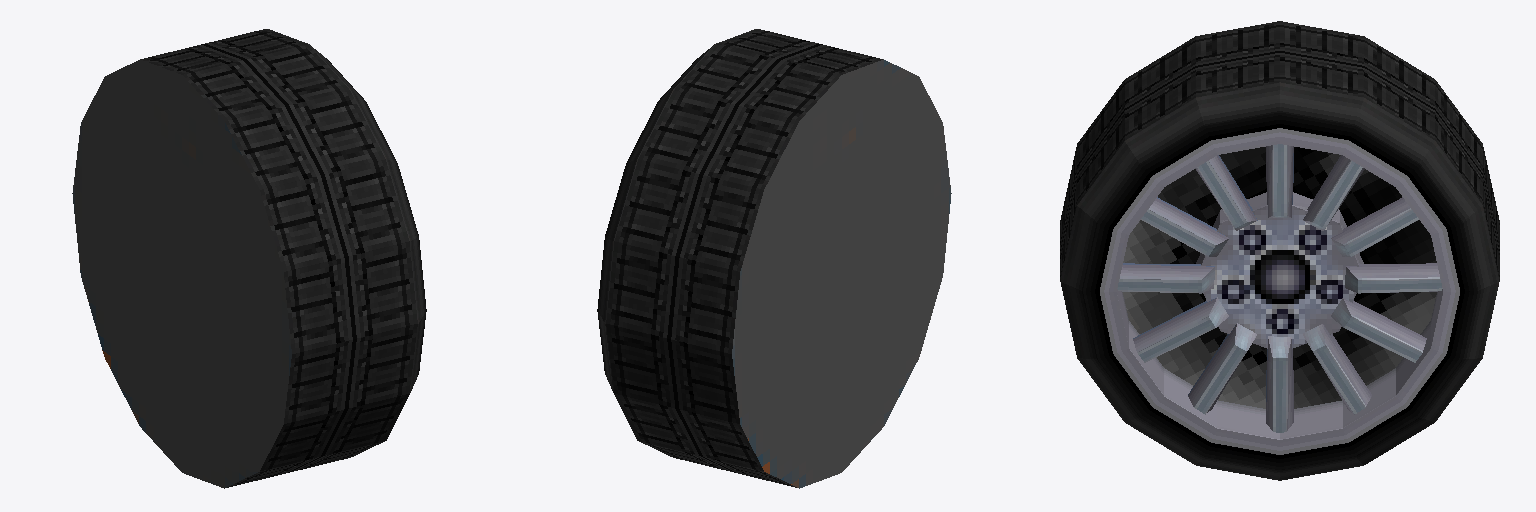
The picture shows the model from 3 angles: view 1: azimuth 30°, elevation 25°; view 2: azimuth 150°, elevation 25°; view 3: azimuth 270°, elevation 25°; orthographic projection.
Bounding box in the file's own units: 3.61 × 9.31 × 9.31.
1 materials, 1 textured.